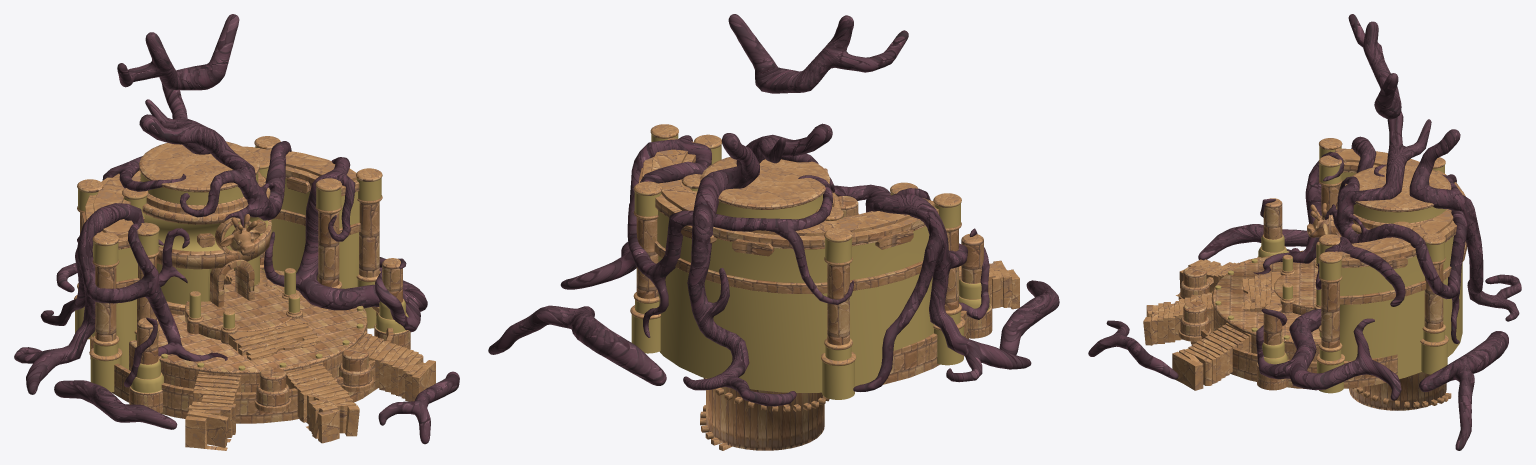
File: Temple.fbx
3 views of the same model, side by side, from view 1: azimuth 30°, elevation 25°; view 2: azimuth 150°, elevation 25°; view 3: azimuth 270°, elevation 25° (orthographic). The views are drawn at different scales.
Parts seen in each view (by area): view 1: Colonne; view 2: Colonne; view 3: Colonne.
Part boxes in pixels (<box>): Colonne: <box>14,14,459,450</box>; Colonne: <box>488,14,1059,450</box>; Colonne: <box>1088,14,1521,450</box>.
Bounding box in the file's own units: 12243 × 10574 × 12050.
